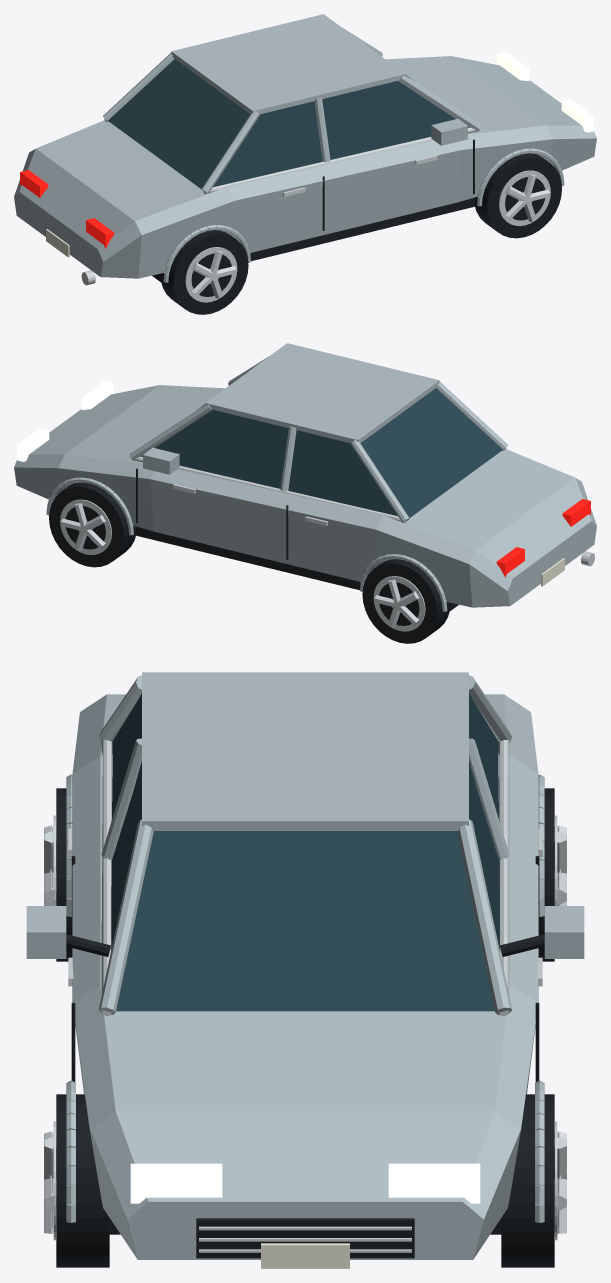
Rendered from city-car.glb.
3 views of the same model, one above another, from view 1: azimuth 30°, elevation 25°; view 2: azimuth 150°, elevation 25°; view 3: azimuth 270°, elevation 25° (orthographic). The views are drawn at different scales.
Parts seen in each view (by area): view 1: city-car; view 2: city-car; view 3: city-car.
Part boxes in pixels (x1,y1,x2,y2): city-car: (14,14,596,314); city-car: (14,343,596,643); city-car: (26,672,584,1268).
Size of the model in its own units: 4.69 by 1.53 by 2.25.
